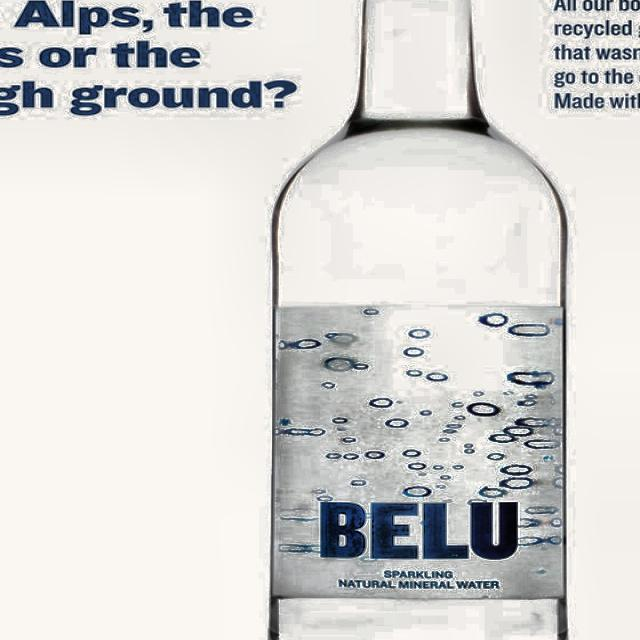glass: (267, 0, 566, 640)
